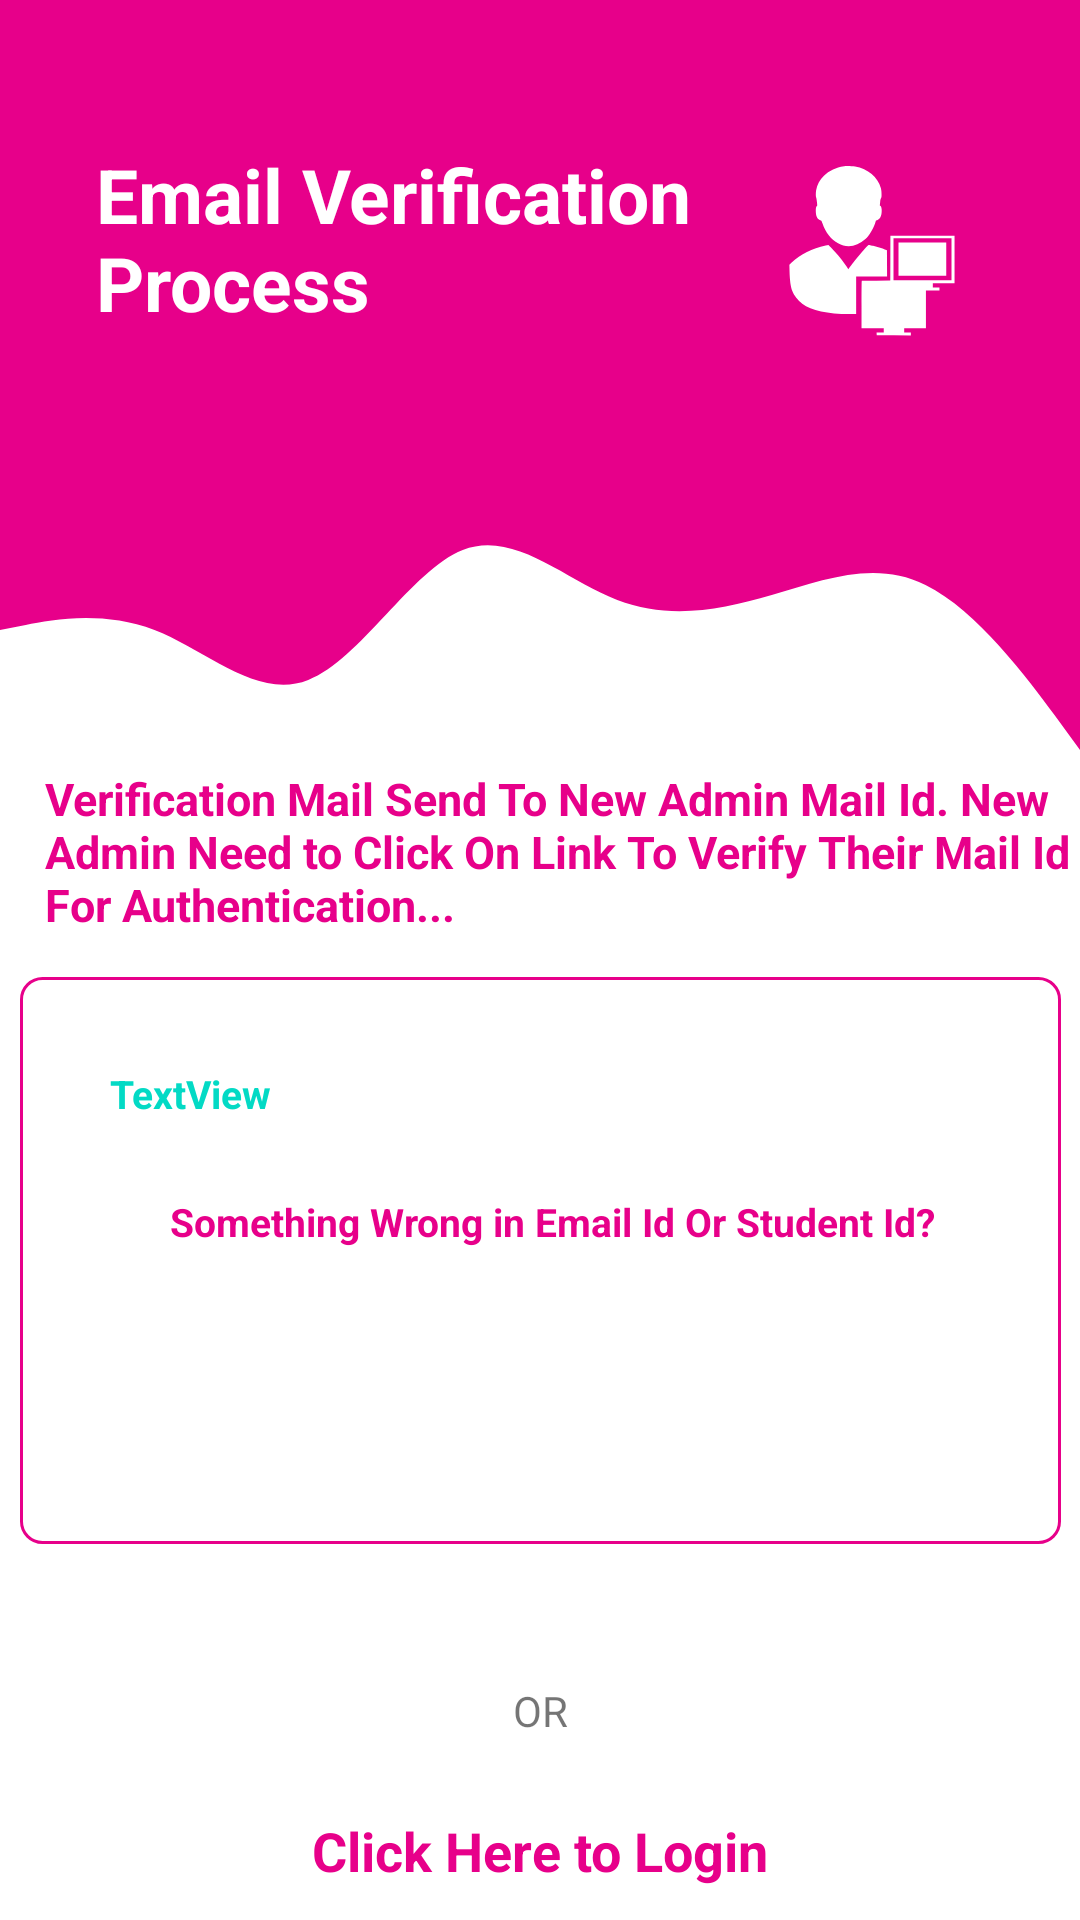

Screen size 1080 x 1920. Icon name, then its center in pixels as [x,y]:
vect admin login signup: [872,251]
